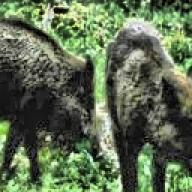boar: (0, 14, 102, 184), (102, 15, 192, 192)
